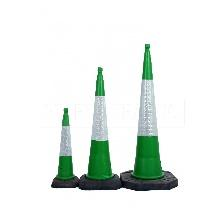traffic cone: (51, 107, 80, 189)
